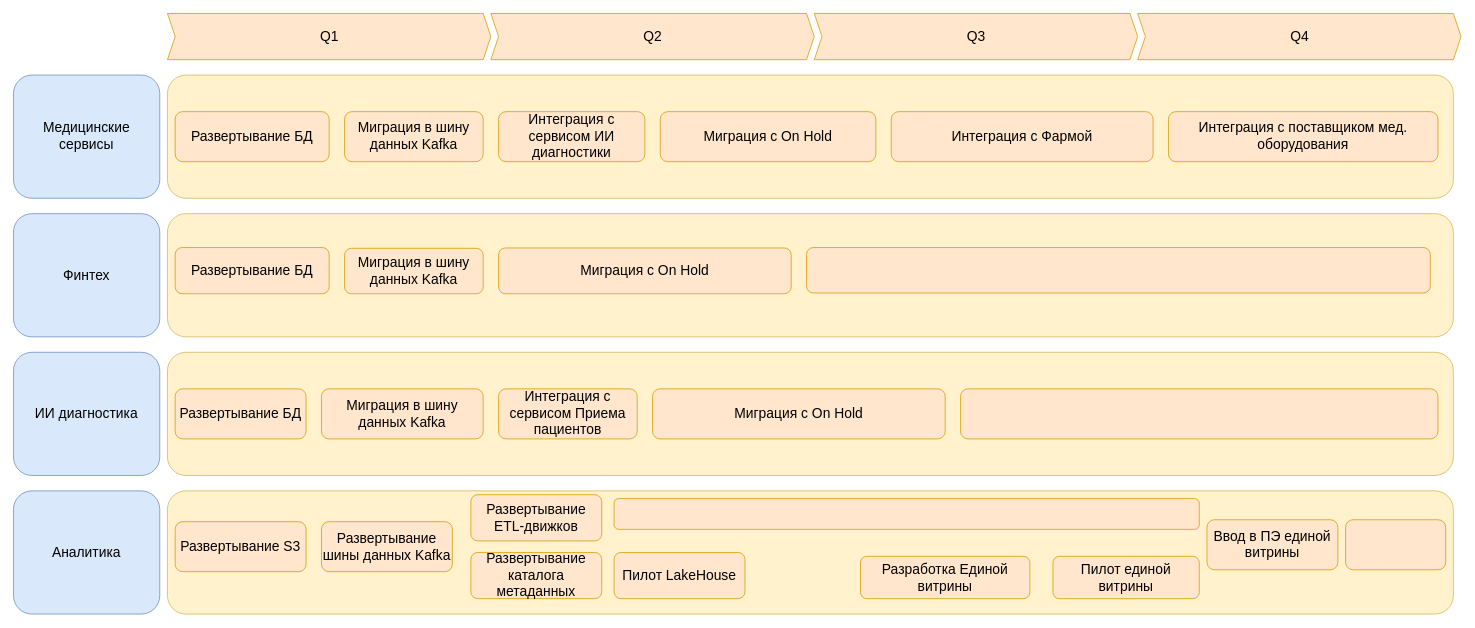
This 1475x628 diagram has some shape labels left out. The centre of each missing label's shape, as x and y in pixels:
"Вывод из ПЭ DWH" goes at point (1395, 544).
"Разработка ETL" goes at point (906, 513).
"Разработка внутренних моделей" goes at point (1199, 413).
"Разработка новых фичей" goes at point (1118, 270).
